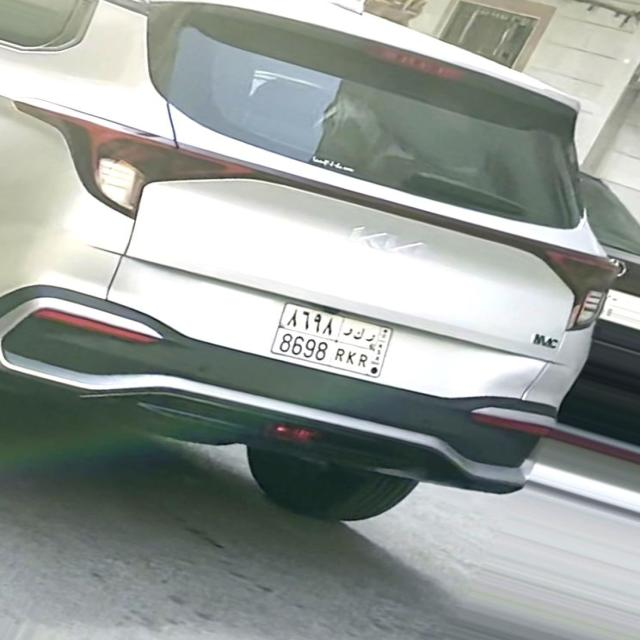Car-plate: (254, 293, 426, 388)
